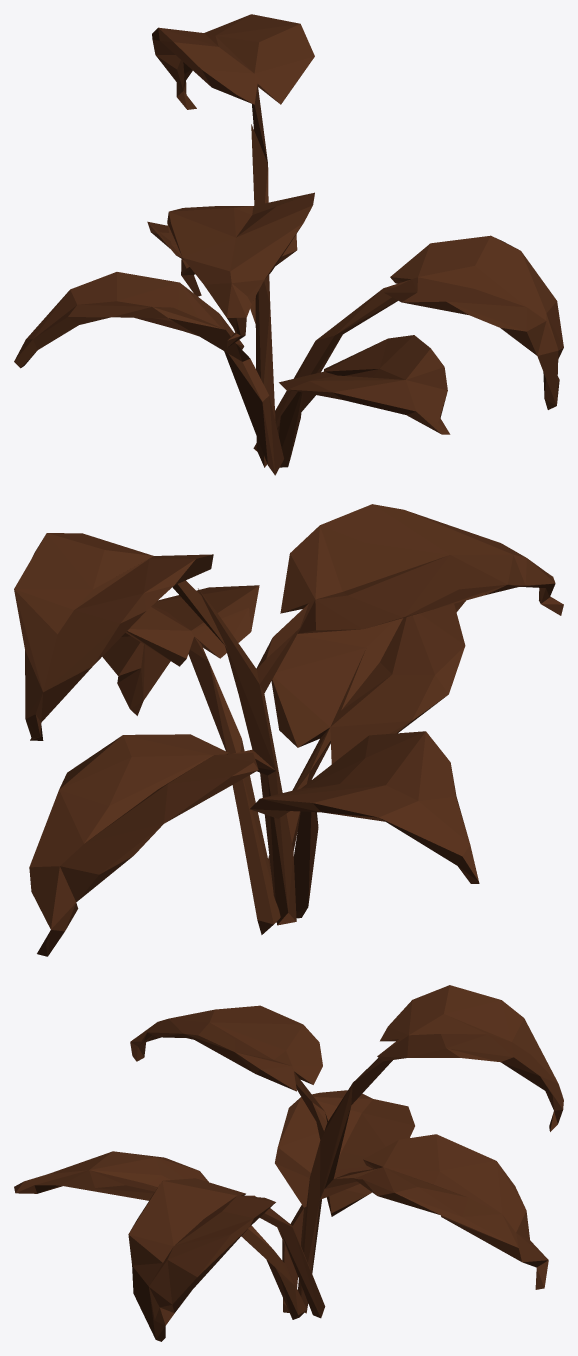
The model's file is ShrubLeaves03.fbx.
The picture shows the model from 3 angles, top to bottom: view 1: azimuth 30°, elevation 25°; view 2: azimuth 150°, elevation 25°; view 3: azimuth 270°, elevation 25°; orthographic projection. The views are drawn at different scales.
Visible parts, largest first — view 1: ShrubLeaves03; view 2: ShrubLeaves03; view 3: ShrubLeaves03.
Part boxes in pixels (box(x1,y1,x2,y2)): ShrubLeaves03: box(14, 14, 563, 475); ShrubLeaves03: box(14, 504, 563, 956); ShrubLeaves03: box(14, 985, 563, 1341).
Bounding box in the file's own units: 118 × 95.08 × 146.
